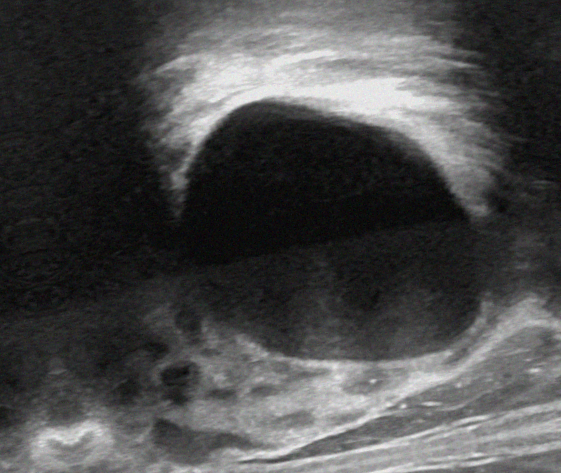Benign: (197, 104, 464, 348)
Malignant: (198, 105, 471, 349)
